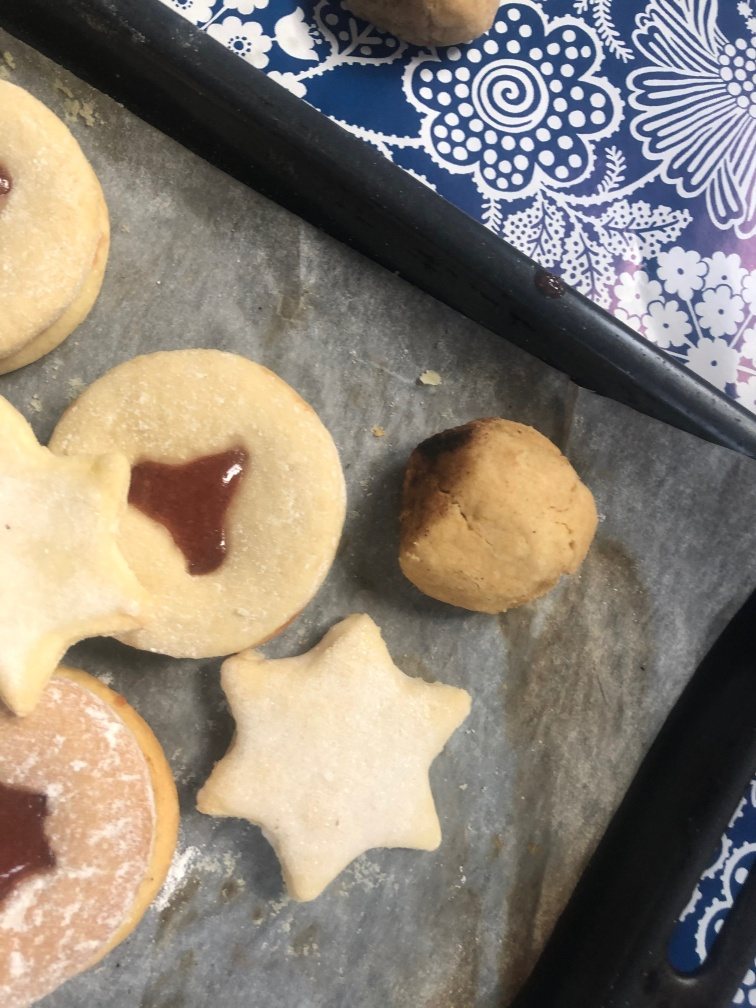christmas shortbread with jam: (54, 348, 344, 657), (7, 664, 181, 1008), (1, 78, 112, 380)
snowball: (394, 416, 600, 616)
star: (198, 610, 469, 896), (1, 390, 150, 709)
